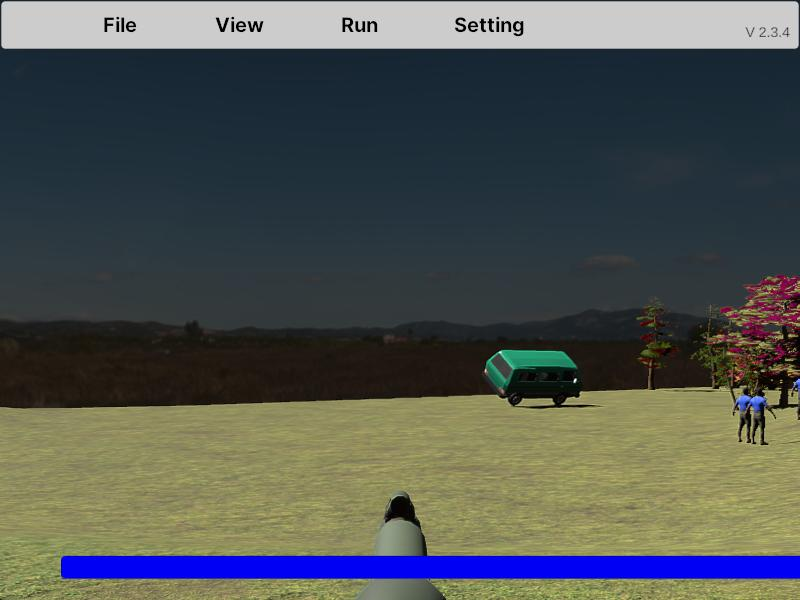Human: (746, 387, 776, 445), (733, 387, 755, 444), (790, 369, 800, 423)
car: (485, 349, 581, 407)
